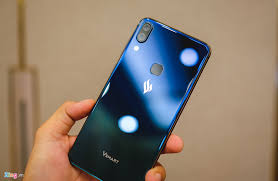vsmart: (64, 13, 214, 181)
